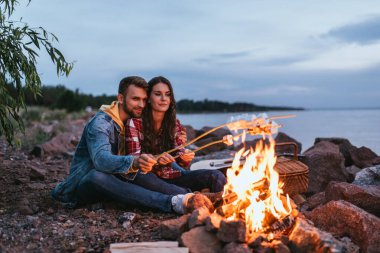fire: (228, 141, 289, 225)
